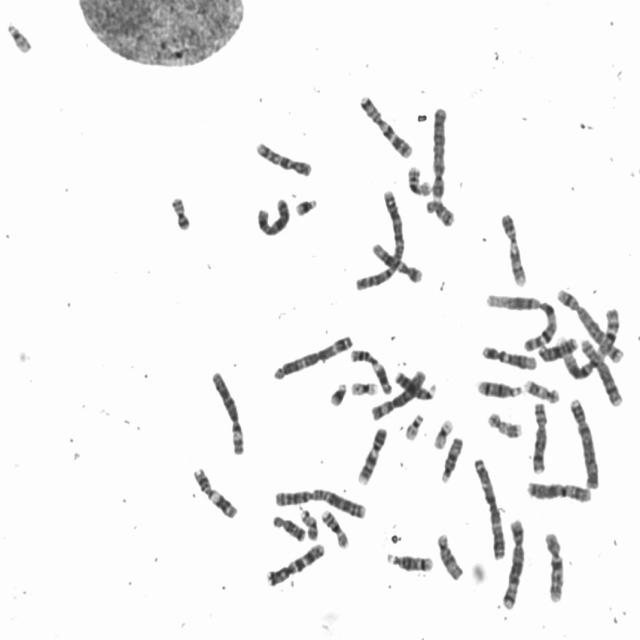A1: (482, 288, 561, 352), (558, 304, 622, 381)
A2: (352, 184, 408, 292), (271, 482, 370, 520)
A3: (269, 330, 356, 381), (470, 452, 508, 561)
B4: (566, 392, 602, 490), (429, 102, 450, 200)
B5: (554, 284, 624, 364), (498, 513, 527, 610)
C10: (252, 136, 314, 178), (540, 526, 568, 605)
C11: (188, 462, 240, 520), (347, 344, 393, 396)
C12: (368, 237, 426, 285), (478, 339, 540, 372)
C6: (208, 365, 247, 457), (368, 365, 428, 422)
C7: (356, 90, 415, 160), (263, 538, 327, 588)
C8: (577, 333, 625, 408), (528, 396, 550, 476)
C9: (497, 208, 529, 288), (354, 422, 389, 486)
D13: (392, 366, 438, 401), (535, 331, 581, 363)
D14: (383, 547, 436, 573), (473, 375, 525, 399)
D15: (434, 528, 466, 582), (438, 432, 466, 484)
E16: (318, 504, 351, 550), (404, 160, 434, 197)
E17: (484, 406, 525, 440), (521, 374, 562, 404)
E18: (269, 510, 308, 543), (423, 194, 457, 228)
F19: (430, 413, 456, 451), (347, 376, 380, 397)
F20: (167, 190, 192, 232), (296, 502, 320, 541)
G21: (292, 192, 320, 218), (326, 377, 349, 408)
G22: (4, 17, 34, 55), (401, 408, 426, 442)
X: (524, 475, 594, 504), (253, 192, 292, 238)
